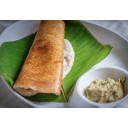dosa: (14, 19, 68, 97)
